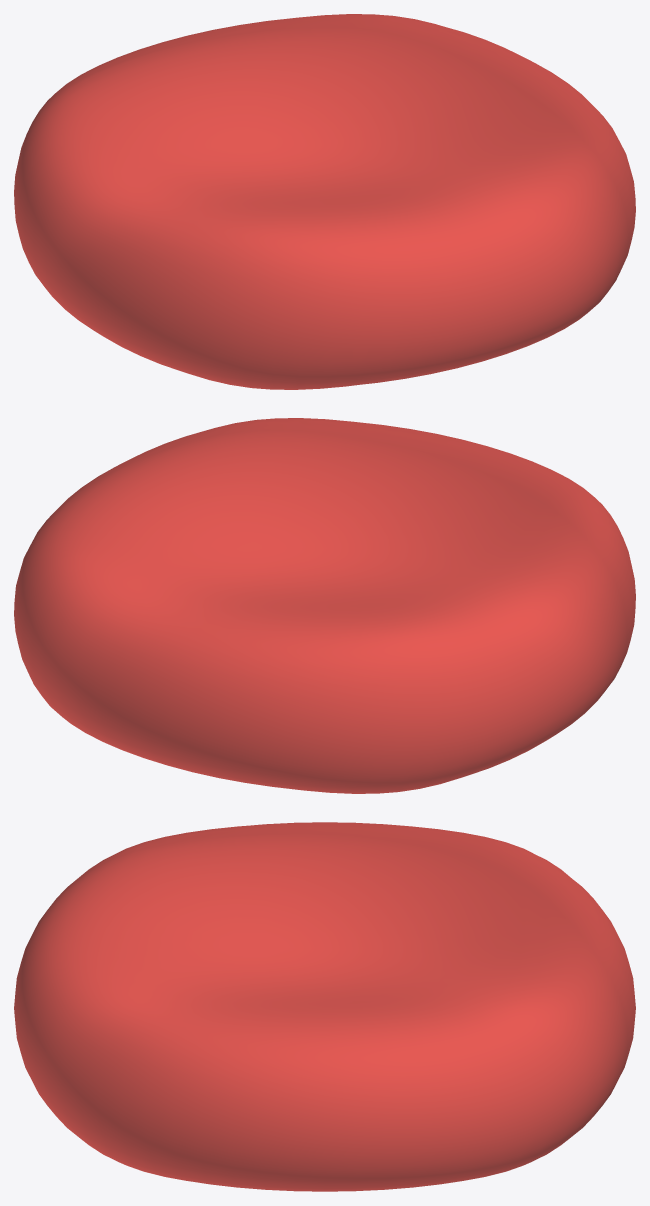
The model's file is blood-cells.glb.
3 views of the same model, one above another, from view 1: azimuth 30°, elevation 25°; view 2: azimuth 150°, elevation 25°; view 3: azimuth 270°, elevation 25° (orthographic).
Visible parts, largest first — view 1: Cube; view 2: Cube; view 3: Cube.
Boxes of the visible parts, x1,y1,x2,y2 form: Cube: (14, 14, 635, 389); Cube: (14, 418, 635, 793); Cube: (14, 822, 635, 1191).
Bounding box in the file's own units: 1.83 × 0.526 × 1.83.
